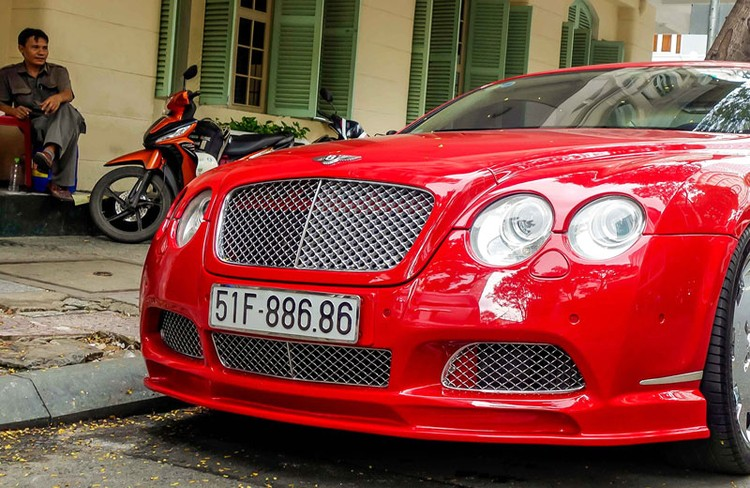bien_so: (208, 283, 360, 344)
